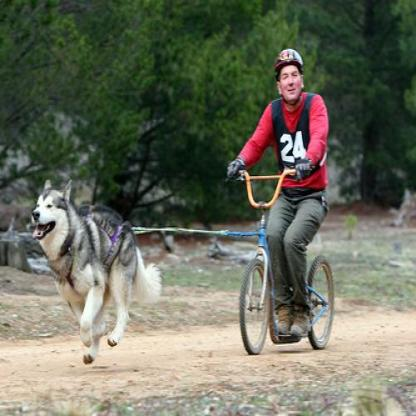malamute: (26, 178, 160, 374)
